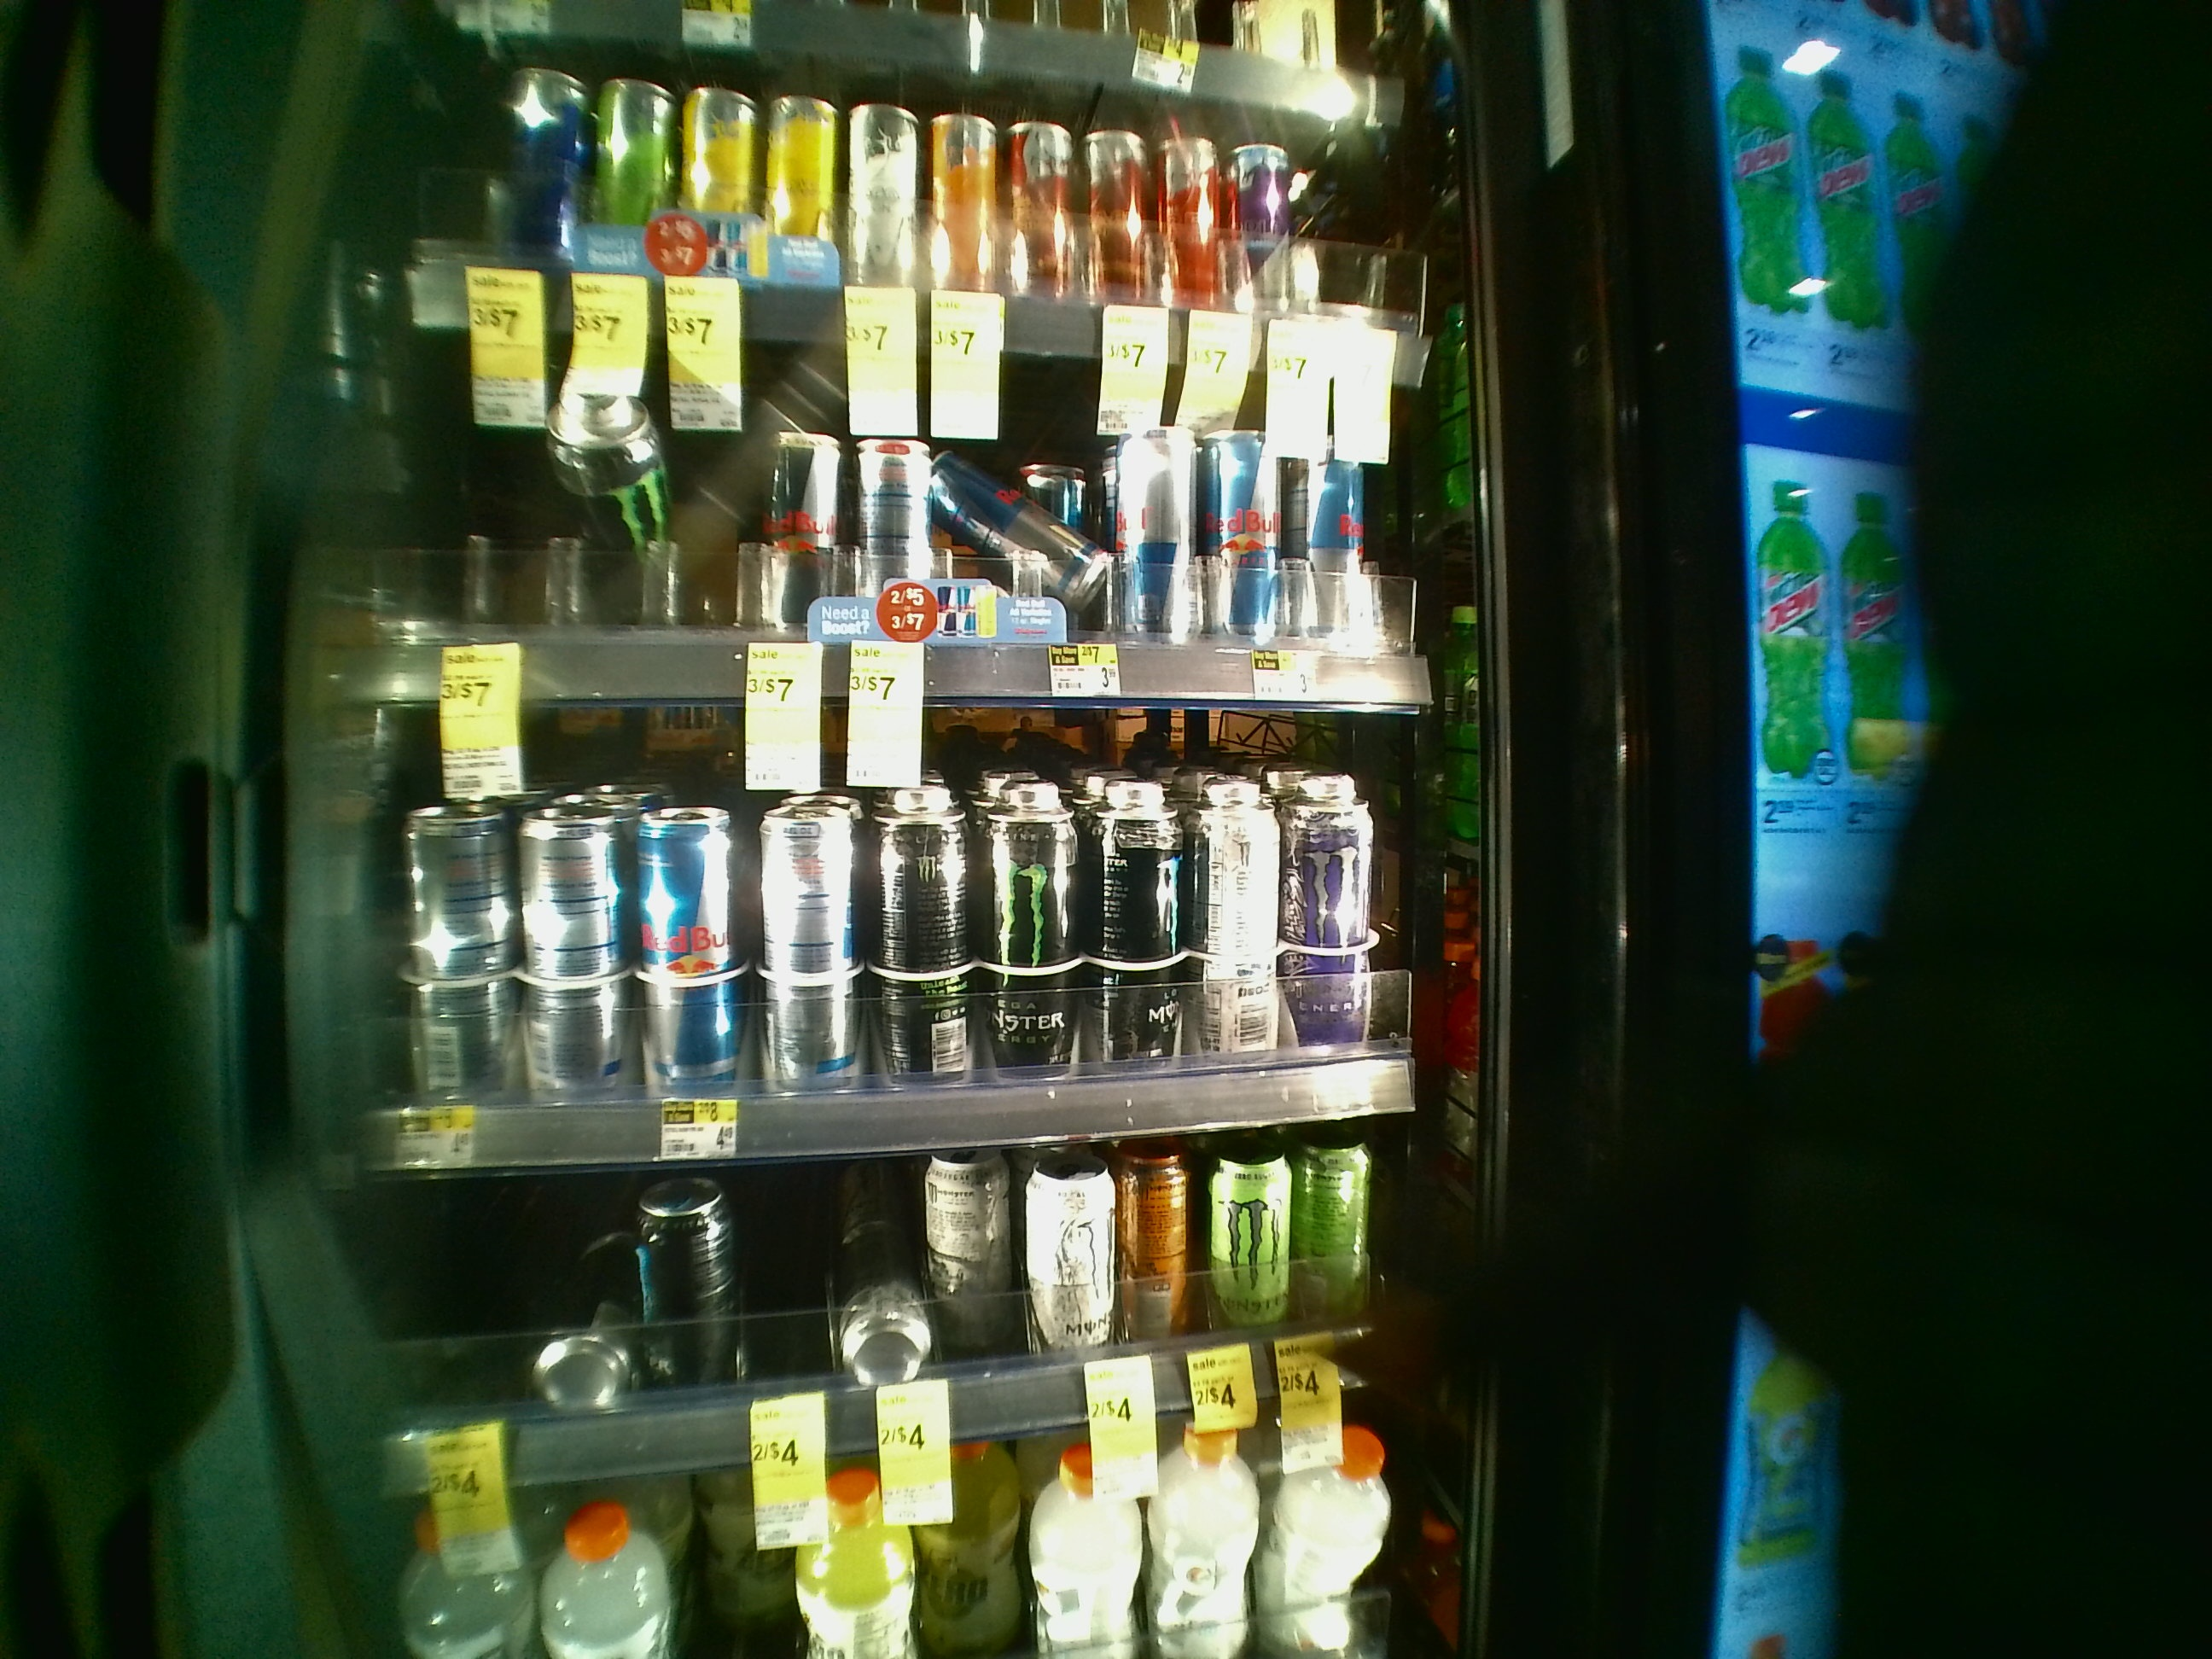shelf: (348, 694, 1515, 1147), (364, 350, 1496, 708)
